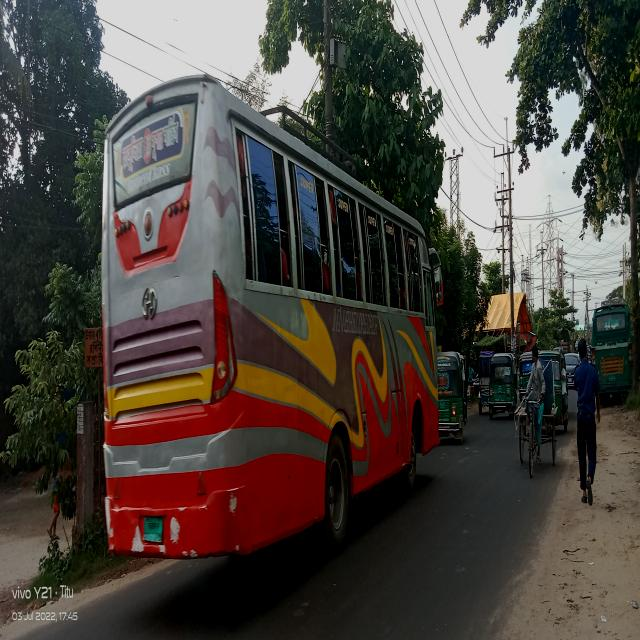bus: (84, 47, 448, 562)
